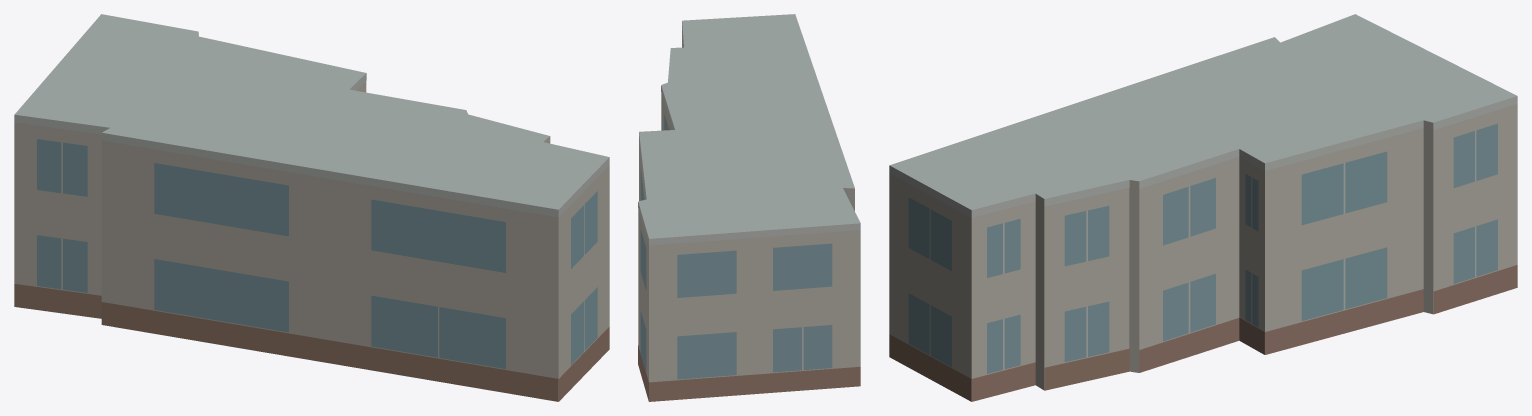
The model's file is survey-upis-32606748.glb.
The picture shows the model from 3 angles, left to right: view 1: azimuth 30°, elevation 25°; view 2: azimuth 150°, elevation 25°; view 3: azimuth 270°, elevation 25°; orthographic projection. The views are drawn at different scales.
Parts seen in each view (by area): view 1: survey-upis-32606748.tmp; view 2: survey-upis-32606748.tmp; view 3: survey-upis-32606748.tmp.
Part boxes in pixels (x1,y1,x2,y2): survey-upis-32606748.tmp: [14, 14, 609, 401]; survey-upis-32606748.tmp: [638, 14, 860, 401]; survey-upis-32606748.tmp: [889, 14, 1517, 401].
Bounding box in the file's own units: 13.4 × 6.1 × 18.13.
